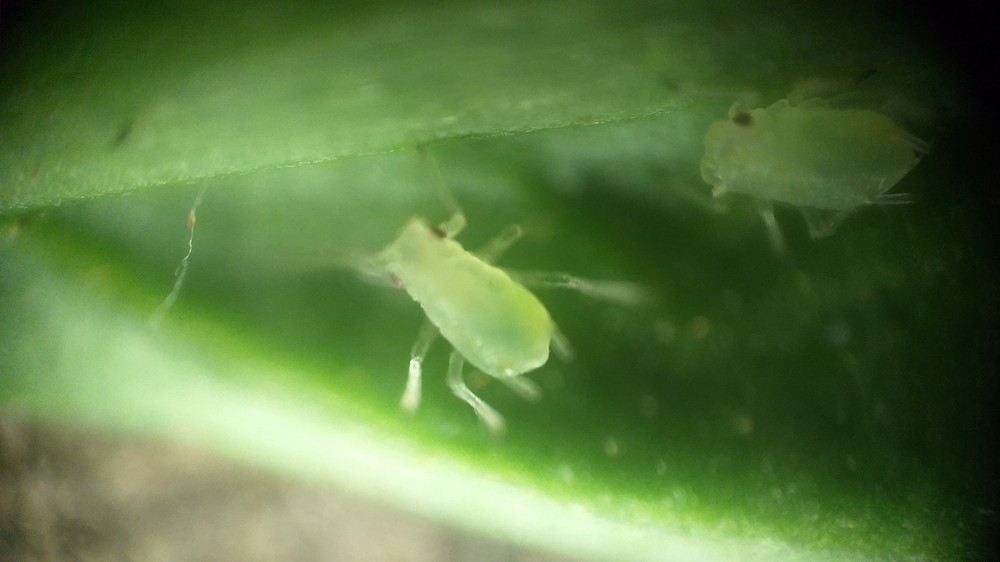Pulgon: (320, 147, 646, 457), (687, 63, 967, 263)
